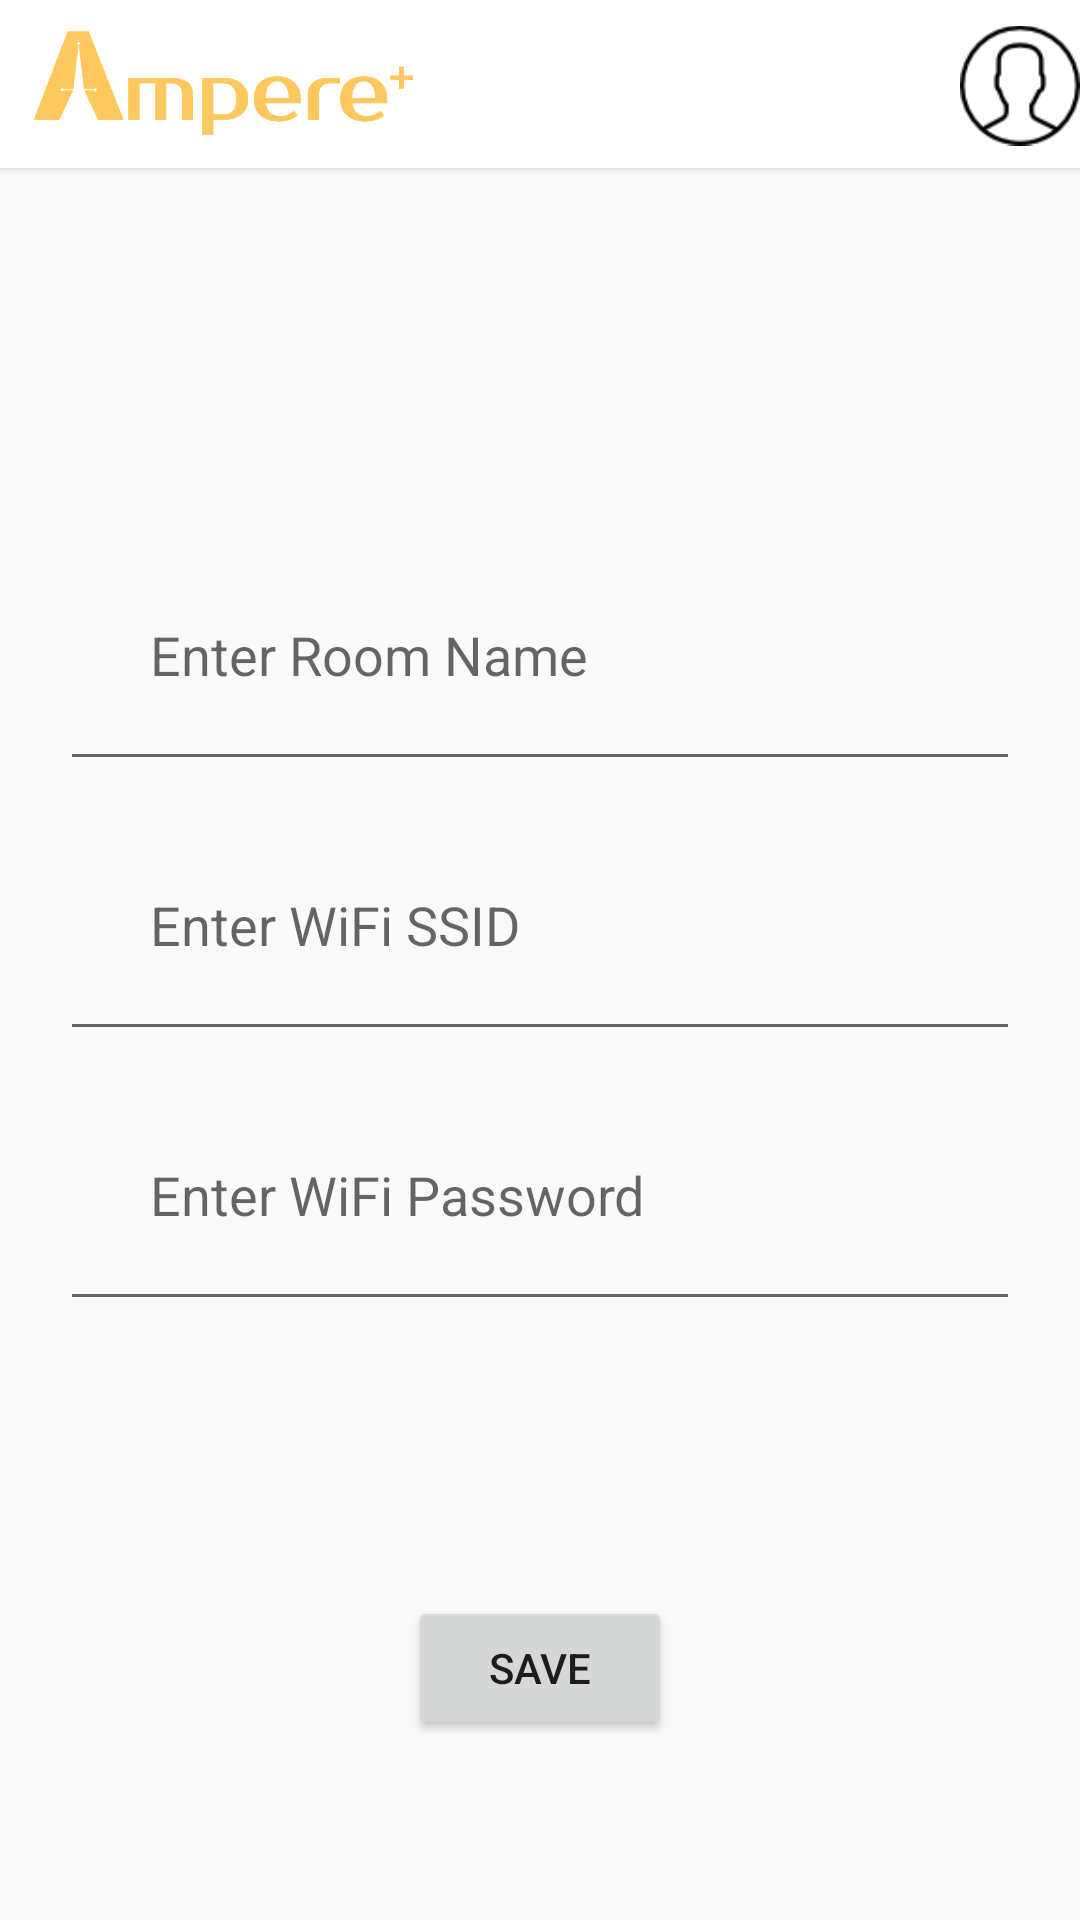

Icons on this 1080px x 1920px Android screen, each with the point to tap as (x=x, y=y):
user: (x=1020, y=86)
